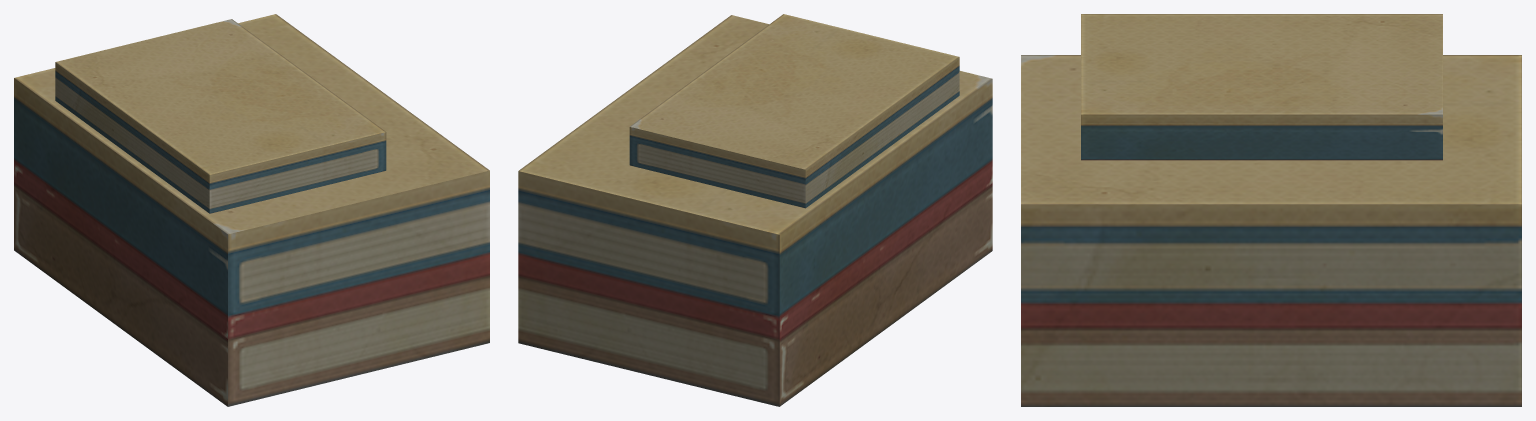
File: mt_dj_book_01.FBX
3 views of the same model, side by side, from view 1: azimuth 30°, elevation 25°; view 2: azimuth 150°, elevation 25°; view 3: azimuth 270°, elevation 25° (orthographic). The views are drawn at different scales.
Visible parts, largest first — view 1: mt_dj_book_01; view 2: mt_dj_book_01; view 3: mt_dj_book_01.
Boxes of the visible parts, left/top/right/bottom form: mt_dj_book_01: left=14, top=14, right=489, bottom=406; mt_dj_book_01: left=518, top=14, right=992, bottom=406; mt_dj_book_01: left=1021, top=14, right=1521, bottom=406.
Size of the model in its own units: 34.86 by 49.27 by 26.86.
